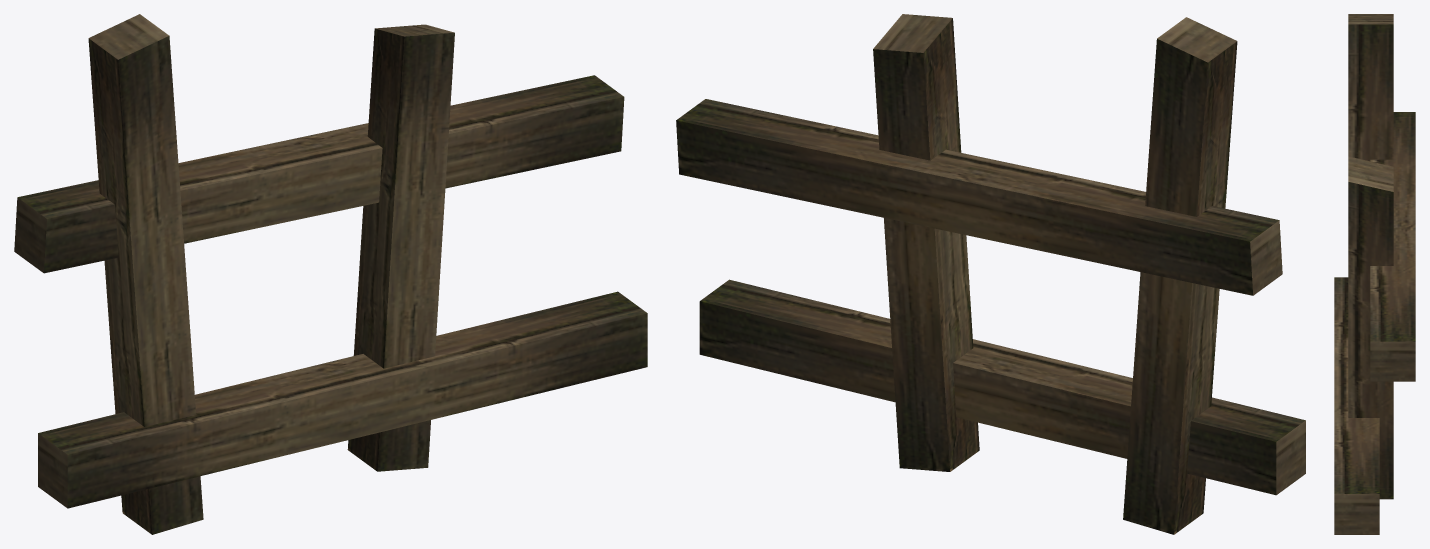
File: a_wujian_muzhalan2.fbx
3 views of the same model, side by side, from view 1: azimuth 30°, elevation 25°; view 2: azimuth 150°, elevation 25°; view 3: azimuth 270°, elevation 25° (orthographic). The views are drawn at different scales.
Visible parts, largest first — view 1: a_wujian_muzhalan2; view 2: a_wujian_muzhalan2; view 3: a_wujian_muzhalan2.
Boxes of the visible parts, bbox=[...] form: a_wujian_muzhalan2: bbox=[14, 14, 647, 534]; a_wujian_muzhalan2: bbox=[676, 14, 1305, 534]; a_wujian_muzhalan2: bbox=[1334, 14, 1415, 534].
Bounding box in the file's own units: 1.28 × 1.05 × 0.2037.
